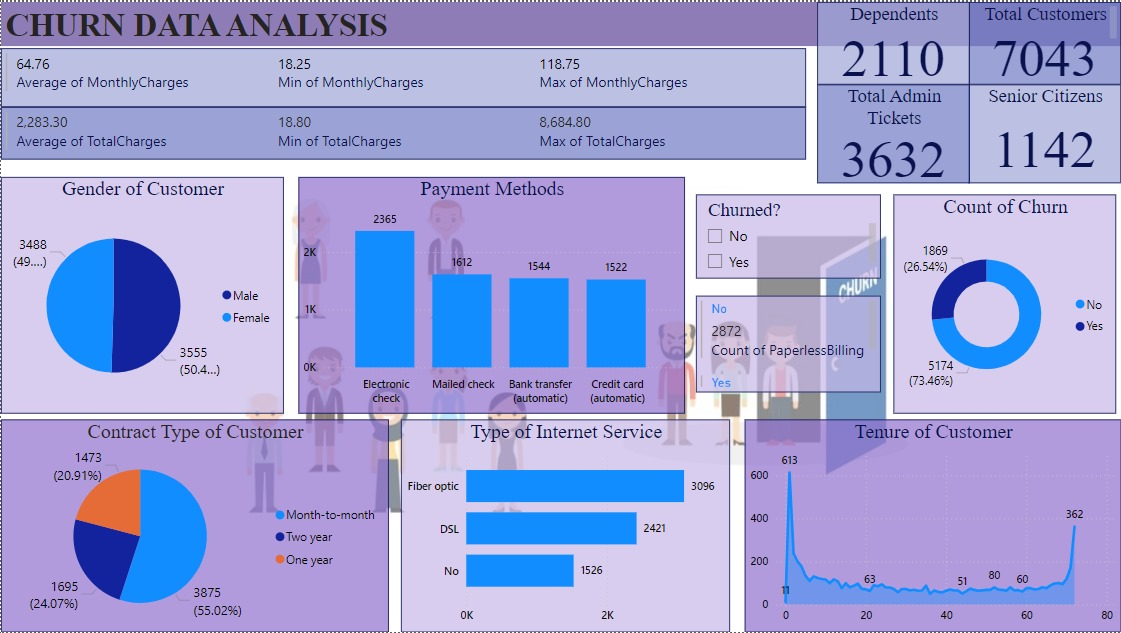

Layout of this report page (visuals, bound fields, positions):
{"tool":"powerbi","page":{"name":"Page 1","canvas":[1280,720],"ordinal":0},"visuals":[{"type":"textbox","box":[0,0,1280,50],"z":0},{"type":"slicer","fields":{"Values":["01 Churn-Dataset.Churn"]},"box":[794.3,220,211.4,95.7],"z":1000},{"type":"card","title":"Total Customers","fields":{"Values":["CountNonNull(01 Churn-Dataset.customerID)"]},"box":[1105.7,0,174.3,94.3],"z":2000},{"type":"pieChart","title":"Gender of Customer","fields":{"Category":["01 Churn-Dataset.gender"],"Y":["CountNonNull(01 Churn-Dataset.customerID)"]},"box":[0,200,322.9,270],"z":3000},{"type":"card","title":"Senior Citizens","fields":{"Values":["Sum(01 Churn-Dataset.SeniorCitizen)"]},"box":[1105.7,94.3,174.3,112.9],"z":4000},{"type":"card","title":"Dependents","fields":{"Values":["CountNonNull(01 Churn-Dataset.Dependents)"]},"box":[932.9,0,174.3,94.3],"z":5000},{"type":"card","title":"Total Admin Tickets","fields":{"Values":["Sum(01 Churn-Dataset.numAdminTickets)"]},"box":[932.9,94.3,174.3,112.9],"z":6000},{"type":"donutChart","title":"Count of Churn","fields":{"Category":["01 Churn-Dataset.Churn"],"Y":["CountNonNull(01 Churn-Dataset.Churn)"]},"box":[1020,220,254.3,250],"z":7000},{"type":"pieChart","title":"Contract Type of Customer","fields":{"Category":["01 Churn-Dataset.Contract"],"Y":["CountNonNull(01 Churn-Dataset.Contract)"]},"box":[0,477.1,442.9,242.9],"z":8000},{"type":"multiRowCard","fields":{"Values":["01 Churn-Dataset.PaperlessBilling","CountNonNull(01 Churn-Dataset.PaperlessBilling)"]},"box":[794.3,335.7,211.4,110],"z":9000},{"type":"multiRowCard","fields":{"Values":["Avg(01 Churn-Dataset.TotalCharges)","Min(01 Churn-Dataset.TotalCharges)","Max(01 Churn-Dataset.TotalCharges)"]},"box":[0,120,920,60],"z":10000},{"type":"multiRowCard","fields":{"Values":["Avg(01 Churn-Dataset.MonthlyCharges)","Min(01 Churn-Dataset.MonthlyCharges)","Max(01 Churn-Dataset.MonthlyCharges)1"]},"box":[0,52.9,920,67.1],"z":11000},{"type":"columnChart","title":"Payment Methods","fields":{"Category":["01 Churn-Dataset.PaymentMethod"],"Y":["CountNonNull(01 Churn-Dataset.PaymentMethod)"]},"box":[340,200,441.4,270],"z":12000},{"type":"areaChart","title":"Tenure of Customer","fields":{"Category":["01 Churn-Dataset.tenure"],"Y":["CountNonNull(01 Churn-Dataset.tenure)"]},"box":[850,477.1,430,242.9],"z":13000},{"type":"barChart","title":"Type of Internet Service","fields":{"Category":["01 Churn-Dataset.InternetService"],"Y":["CountNonNull(01 Churn-Dataset.InternetService)"]},"box":[457.1,477.1,375.7,242.9],"z":14000}]}

Visuals, with their boxes in screenshot pixels (x1, y1, x2, y2), scaled from the page's 1280x720 canvas onto the 1121x633 screenshot:
textbox: box=[0, 0, 1120, 44]
slicer - 01 Churn-Dataset.Churn: box=[696, 193, 881, 278]
"Total Customers" card: box=[968, 0, 1120, 83]
"Gender of Customer" pieChart: box=[0, 176, 283, 413]
"Senior Citizens" card: box=[968, 83, 1120, 182]
"Dependents" card: box=[817, 0, 970, 83]
"Total Admin Tickets" card: box=[817, 83, 970, 182]
"Count of Churn" donutChart: box=[893, 193, 1116, 413]
"Contract Type of Customer" pieChart: box=[0, 419, 388, 632]
multiRowCard - 01 Churn-Dataset.PaperlessBilling x CountNonNull(01 Churn-Dataset.PaperlessBilling): box=[696, 295, 881, 392]
multiRowCard - Avg(01 Churn-Dataset.TotalCharges) x Min(01 Churn-Dataset.TotalCharges): box=[0, 106, 806, 158]
multiRowCard - Avg(01 Churn-Dataset.MonthlyCharges) x Min(01 Churn-Dataset.MonthlyCharges): box=[0, 47, 806, 106]
"Payment Methods" columnChart: box=[298, 176, 684, 413]
"Tenure of Customer" areaChart: box=[744, 419, 1120, 632]
"Type of Internet Service" barChart: box=[400, 419, 729, 632]
